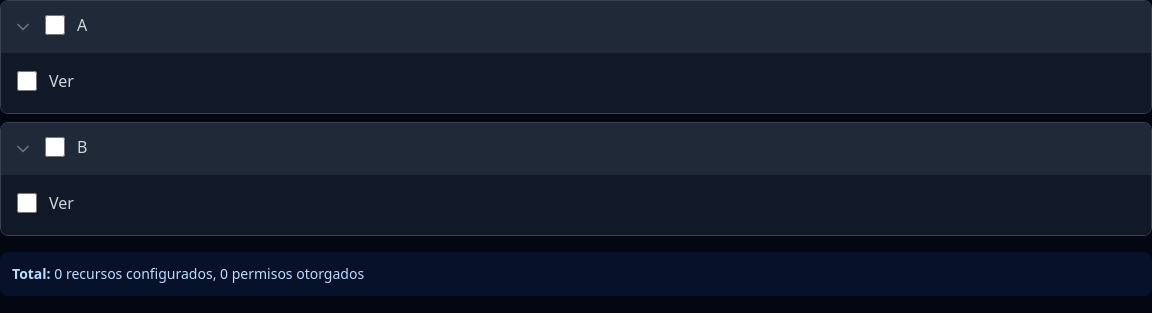
Scenario: RolePermissionsEditor › colapsar un recurso sigue funcionando y no se re-expande en re-renders sin cambio de available
The image size is (1152, 313).
Step 1. Click the 1st button → point(23, 27), box [13, 17, 33, 37]
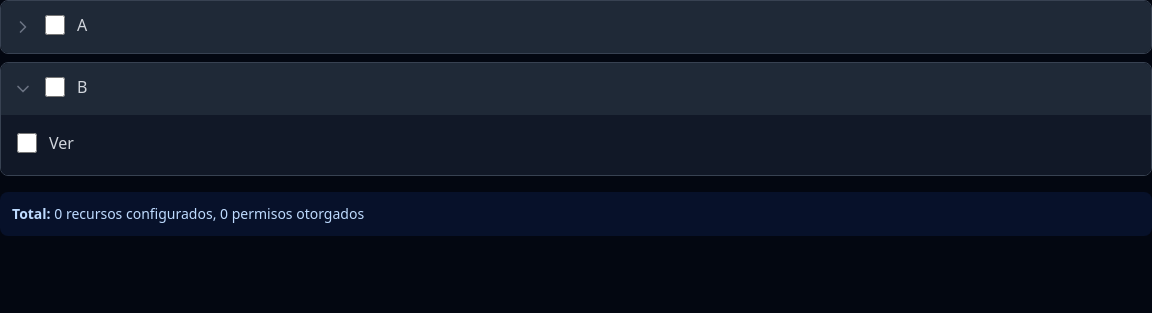
Expected: the text "Ver" is shown once, [49, 131, 74, 155]
